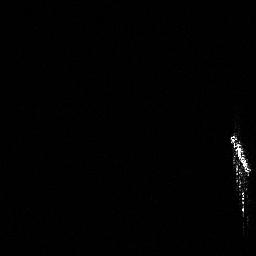ship: (225, 127, 255, 225)
